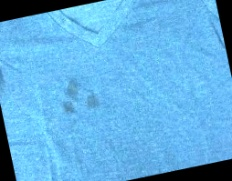oil: (57, 74, 103, 117)
